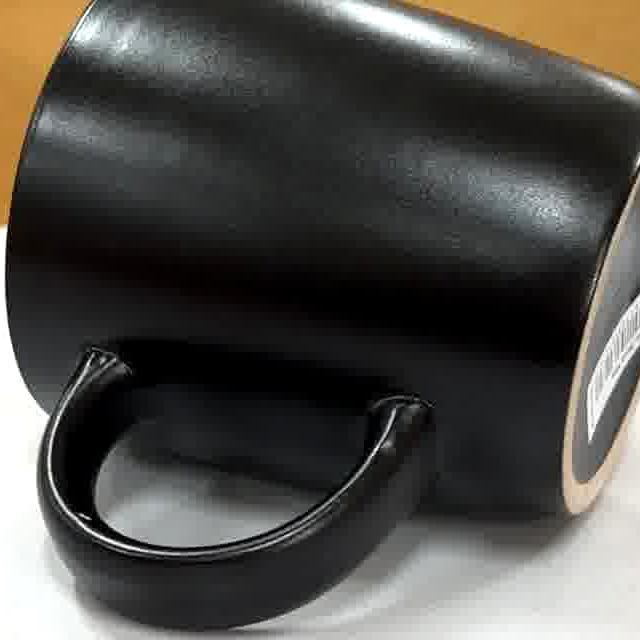cup: (6, 0, 640, 632)
